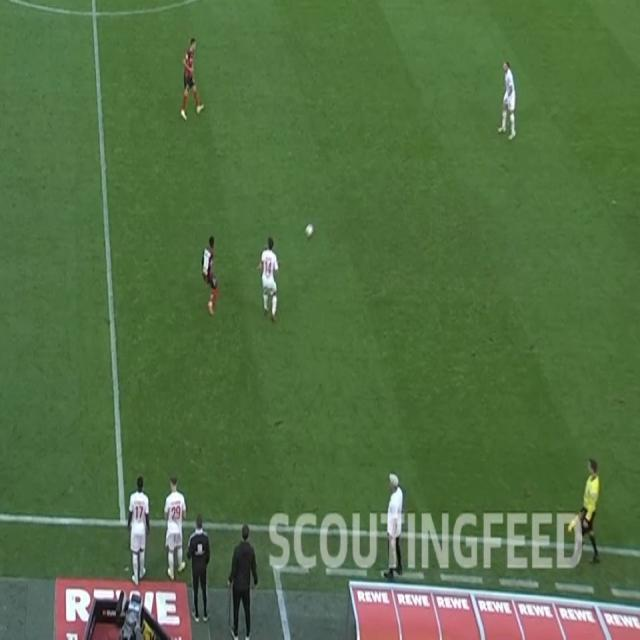ball: (305, 222, 314, 240)
